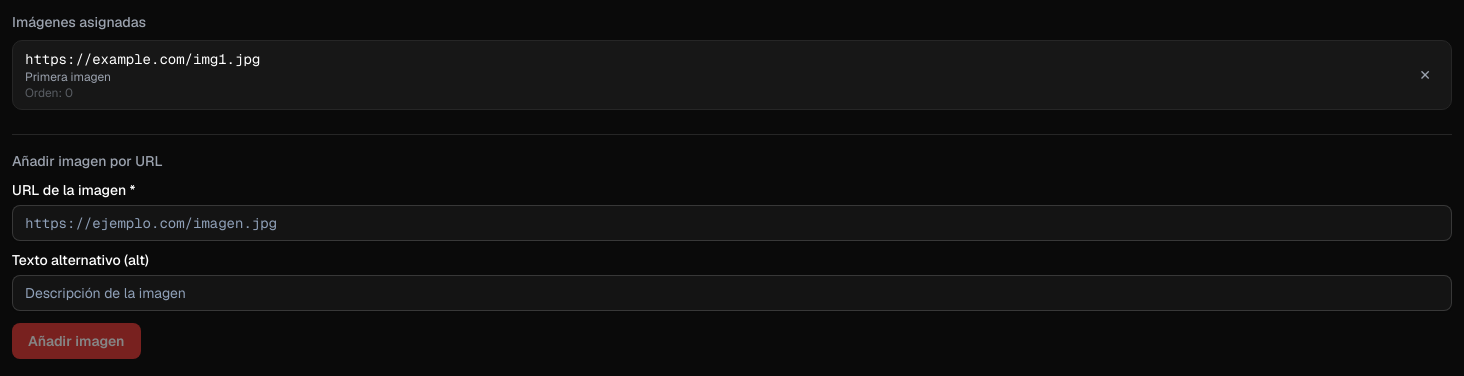
Test case: ProductImagesPanel › eliminar imagen › cancela la eliminación al hacer clic en No
Click the button titled "Eliminar" at (1425, 75), box [1411,61,1439,89]
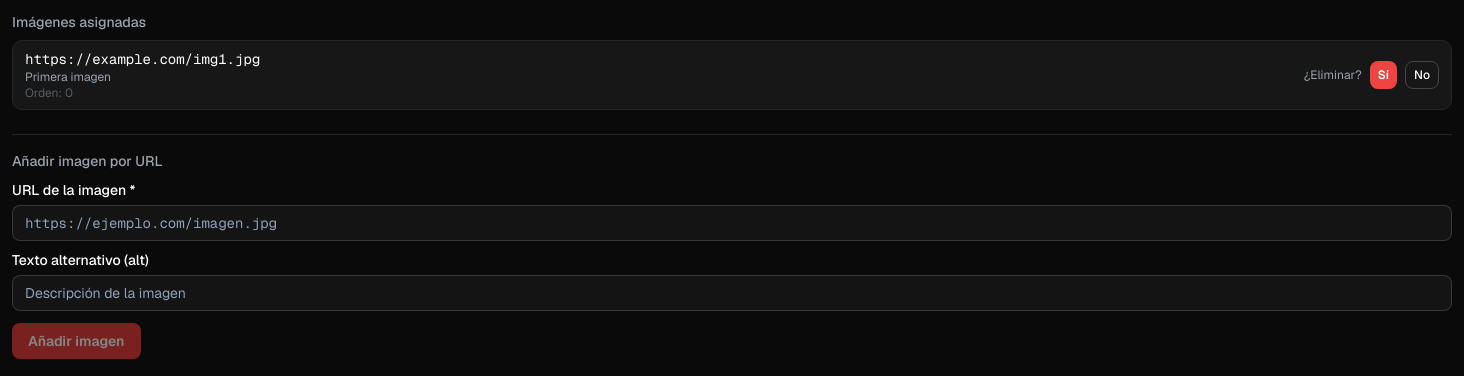
Now the text "¿Eliminar?" is shown, box [1304,67,1362,83]
Click the button "No" at (1422, 75), box [1405,61,1439,89]
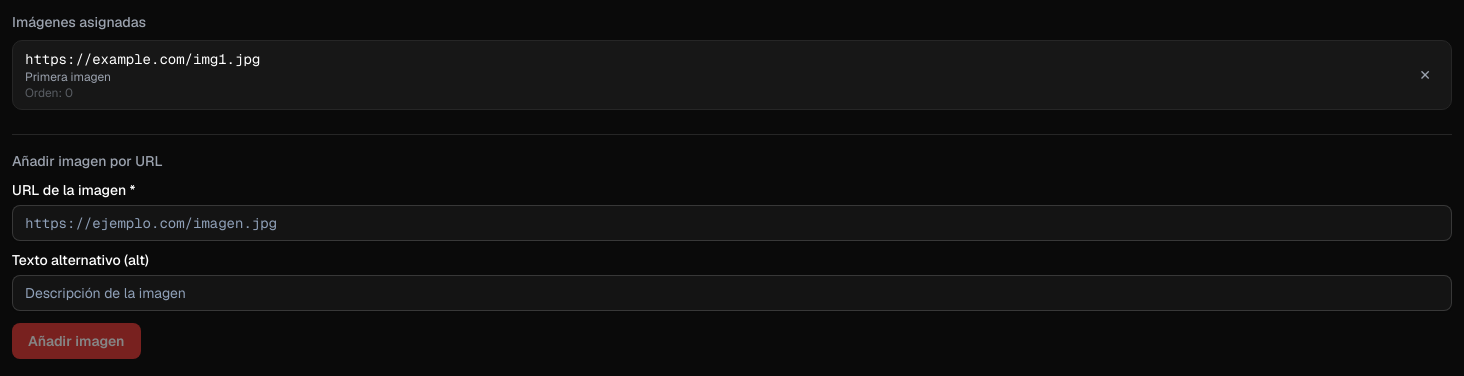
Now the text "¿Eliminar?" is gone
